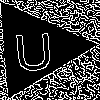U: (11, 23, 56, 72)
